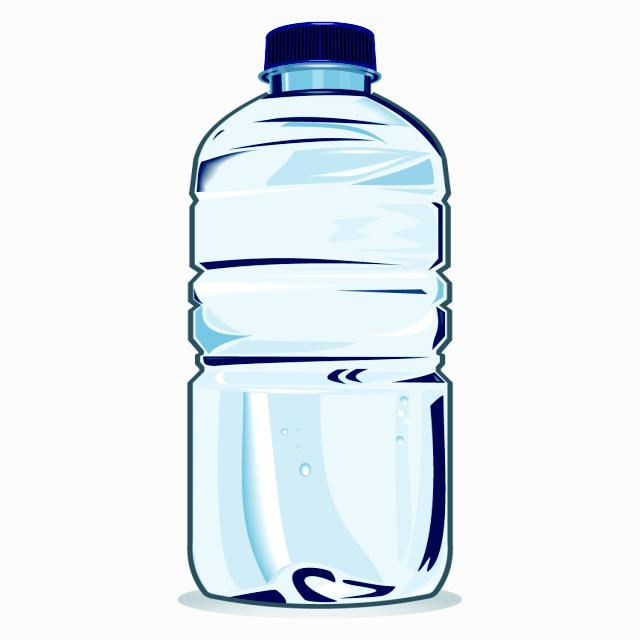full-bottle: (176, 21, 468, 626)
